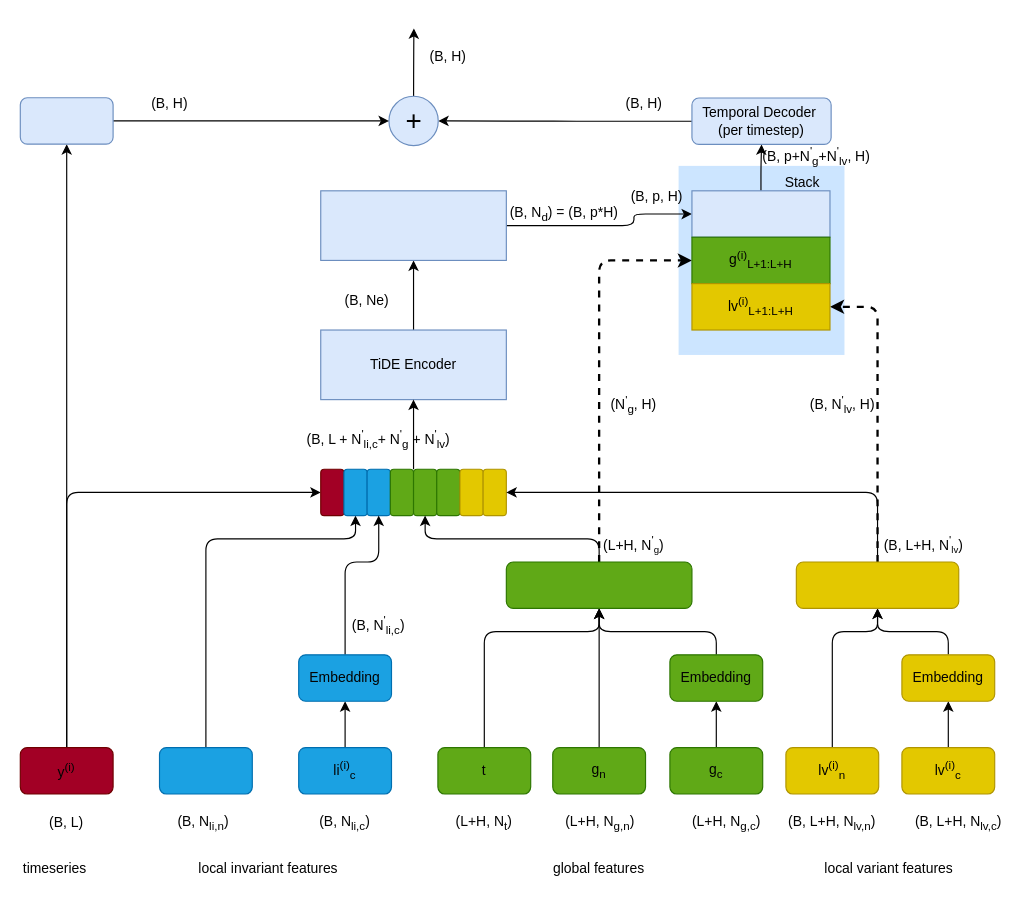
Image size: 1025x907. Some labels were removed from this diagram. Each missing label, with the centre of its shape:
d (i) L+1:L+H: point 760,213
Global Encoder (per timestep): point 598,584
li (i) n: point 205,770
LInear Projection: point 66,120
Local Variant Encoder (per timestep): point 877,584
TiDE Decoder: point 413,225
